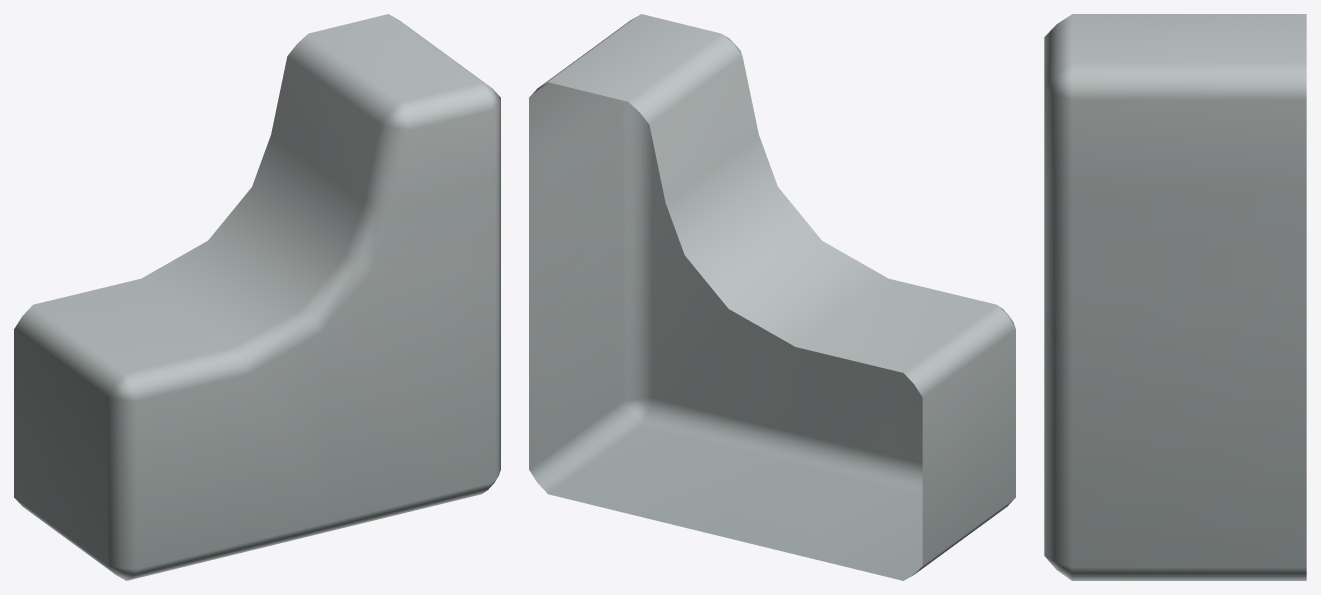
File: tasto_puzzle_allarme_02.fbx
3 views of the same model, side by side, from view 1: azimuth 30°, elevation 25°; view 2: azimuth 150°, elevation 25°; view 3: azimuth 270°, elevation 25° (orthographic). The views are drawn at different scales.
Parts seen in each view (by area): view 1: tasto_puzzle_allarme_02; view 2: tasto_puzzle_allarme_02; view 3: tasto_puzzle_allarme_02.
Boxes of the visible parts, <box> form: tasto_puzzle_allarme_02: <box>14,14,500,580</box>; tasto_puzzle_allarme_02: <box>529,14,1015,580</box>; tasto_puzzle_allarme_02: <box>1044,14,1306,580</box>.
Size of the model in its own units: 2 by 2 by 0.9182.
